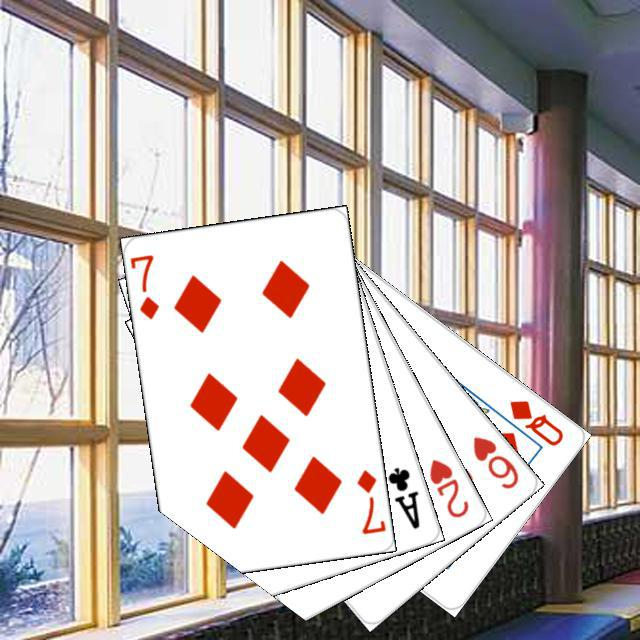2h: (424, 454, 471, 520)
6h: (467, 431, 521, 491)
7d: (127, 250, 161, 321), (352, 464, 385, 537)
Ac: (382, 462, 421, 531)
Qd: (504, 395, 566, 448)
